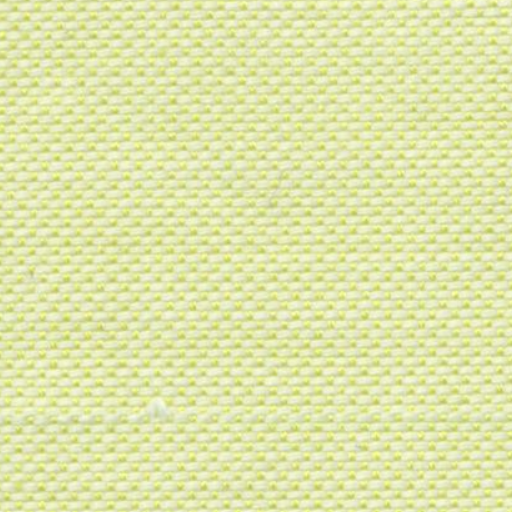TuoSha: (40, 370, 490, 443)
